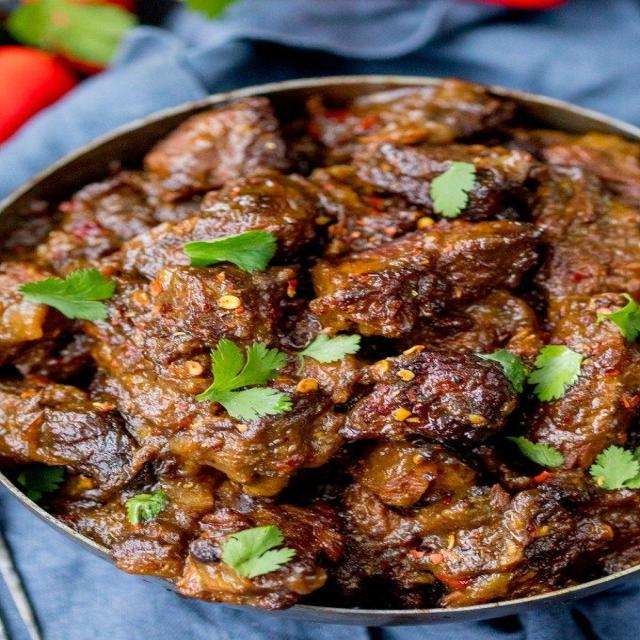Rendang: (0, 79, 637, 619)
